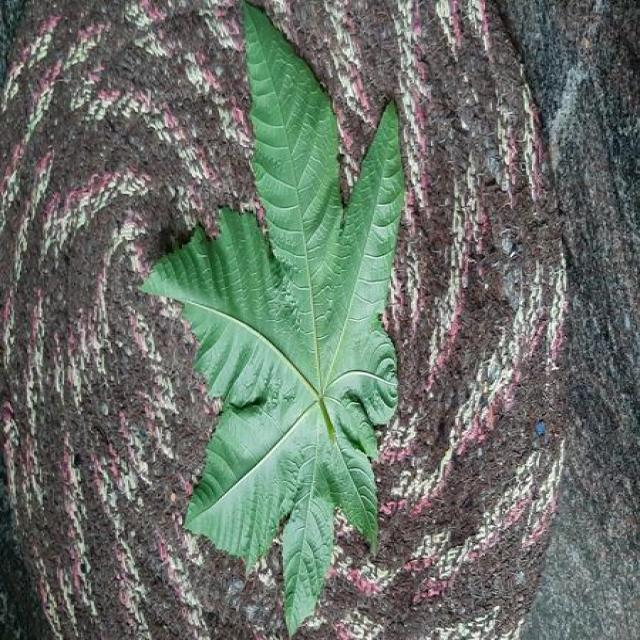castor: (142, 4, 403, 633)
